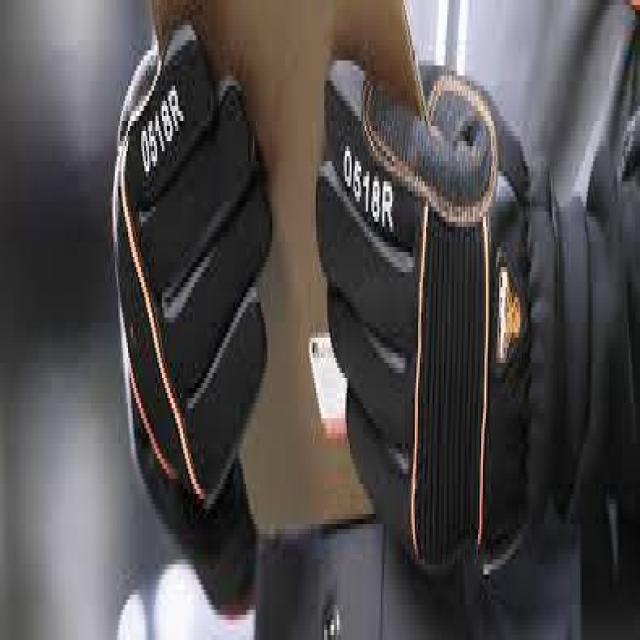Gloves: (309, 34, 562, 591), (106, 14, 278, 625)
